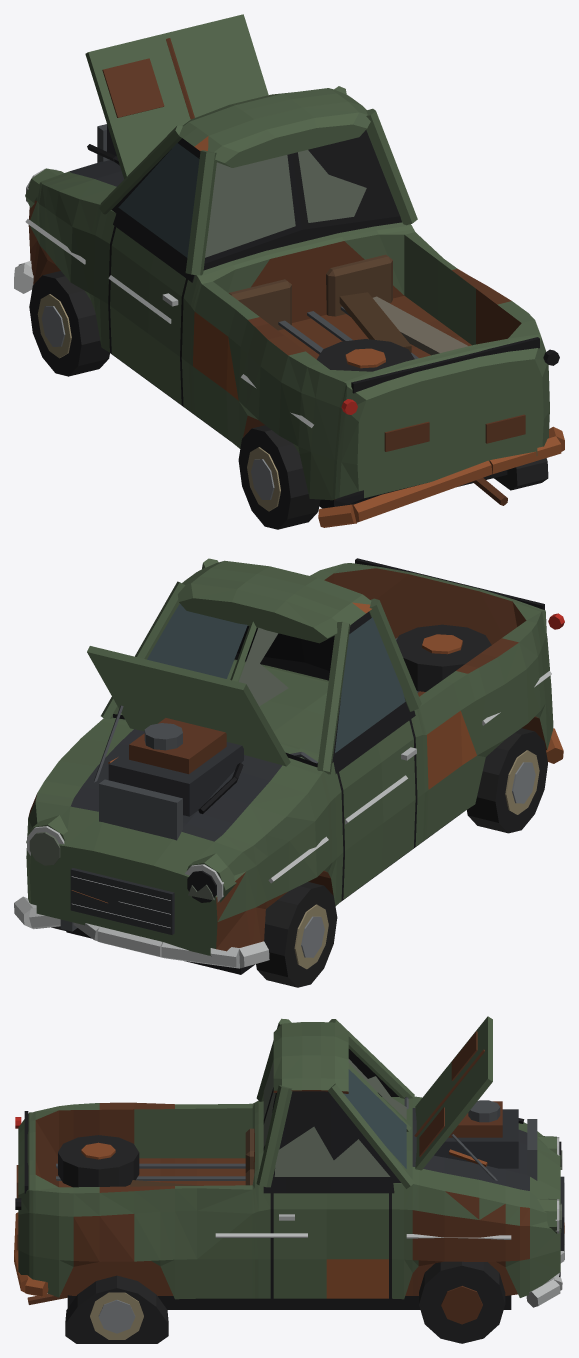
The model's file is car_pickup_green.fbx.
3 renders of one model, top to bottom at view 1: azimuth 30°, elevation 25°; view 2: azimuth 150°, elevation 25°; view 3: azimuth 270°, elevation 25°, orthographic. The views are drawn at different scales.
Visible parts, largest first — view 1: car_pickup_green; view 2: car_pickup_green; view 3: car_pickup_green.
Part boxes in pixels (bbox=[...]): car_pickup_green: bbox=[14, 14, 564, 529]; car_pickup_green: bbox=[14, 558, 564, 987]; car_pickup_green: bbox=[14, 1016, 564, 1343].
Size of the model in its own units: 1.99 by 2.21 by 4.47.
